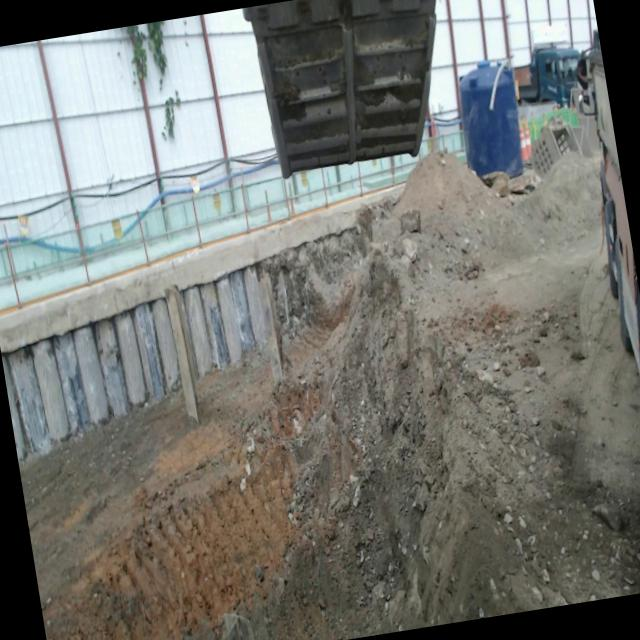red-sand: (19, 153, 640, 640)
